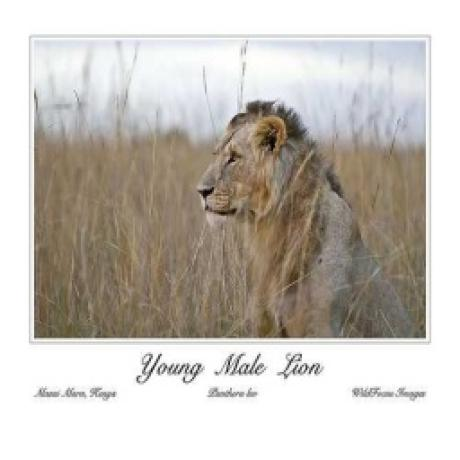Lion: (194, 95, 415, 336)
